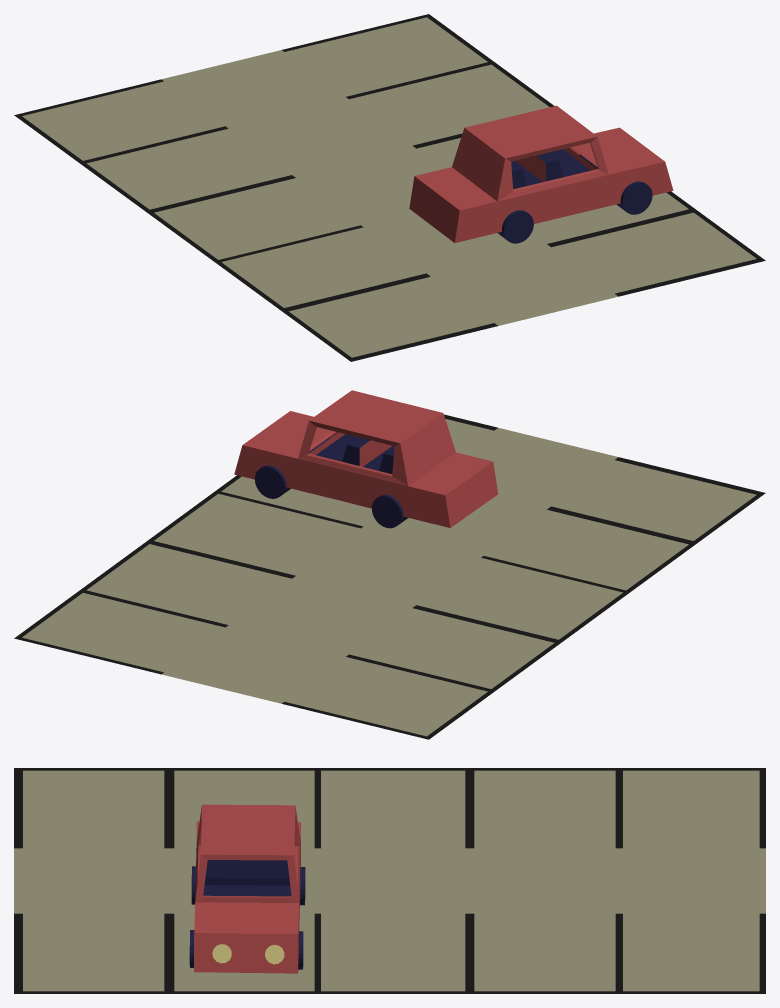
The model's file is parking_lot.fbx.
3 renders of one model, top to bottom at view 1: azimuth 30°, elevation 25°; view 2: azimuth 150°, elevation 25°; view 3: azimuth 270°, elevation 25°, orthographic. The views are drawn at different scales.
Parts seen in each view (by area): view 1: parking lot, yellow_car.002; view 2: parking lot, yellow_car.002; view 3: parking lot, yellow_car.002.
Boxes of the visible parts, x1,y1,x2,y2 form: parking lot: (14,14,765,361); yellow_car.002: (409,105,673,243); parking lot: (14,414,765,739); yellow_car.002: (234,390,498,528); parking lot: (14,768,765,993); yellow_car.002: (189,804,305,973).
Size of the model in its own units: 396 by 76.38 by 558.
